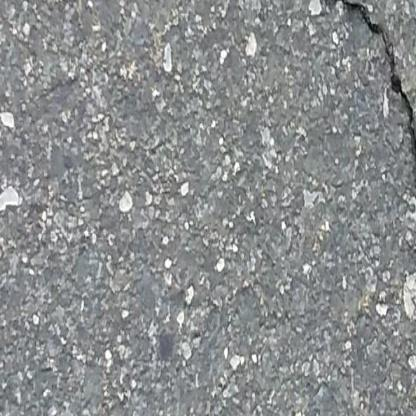Cracks: (318, 0, 416, 260)
